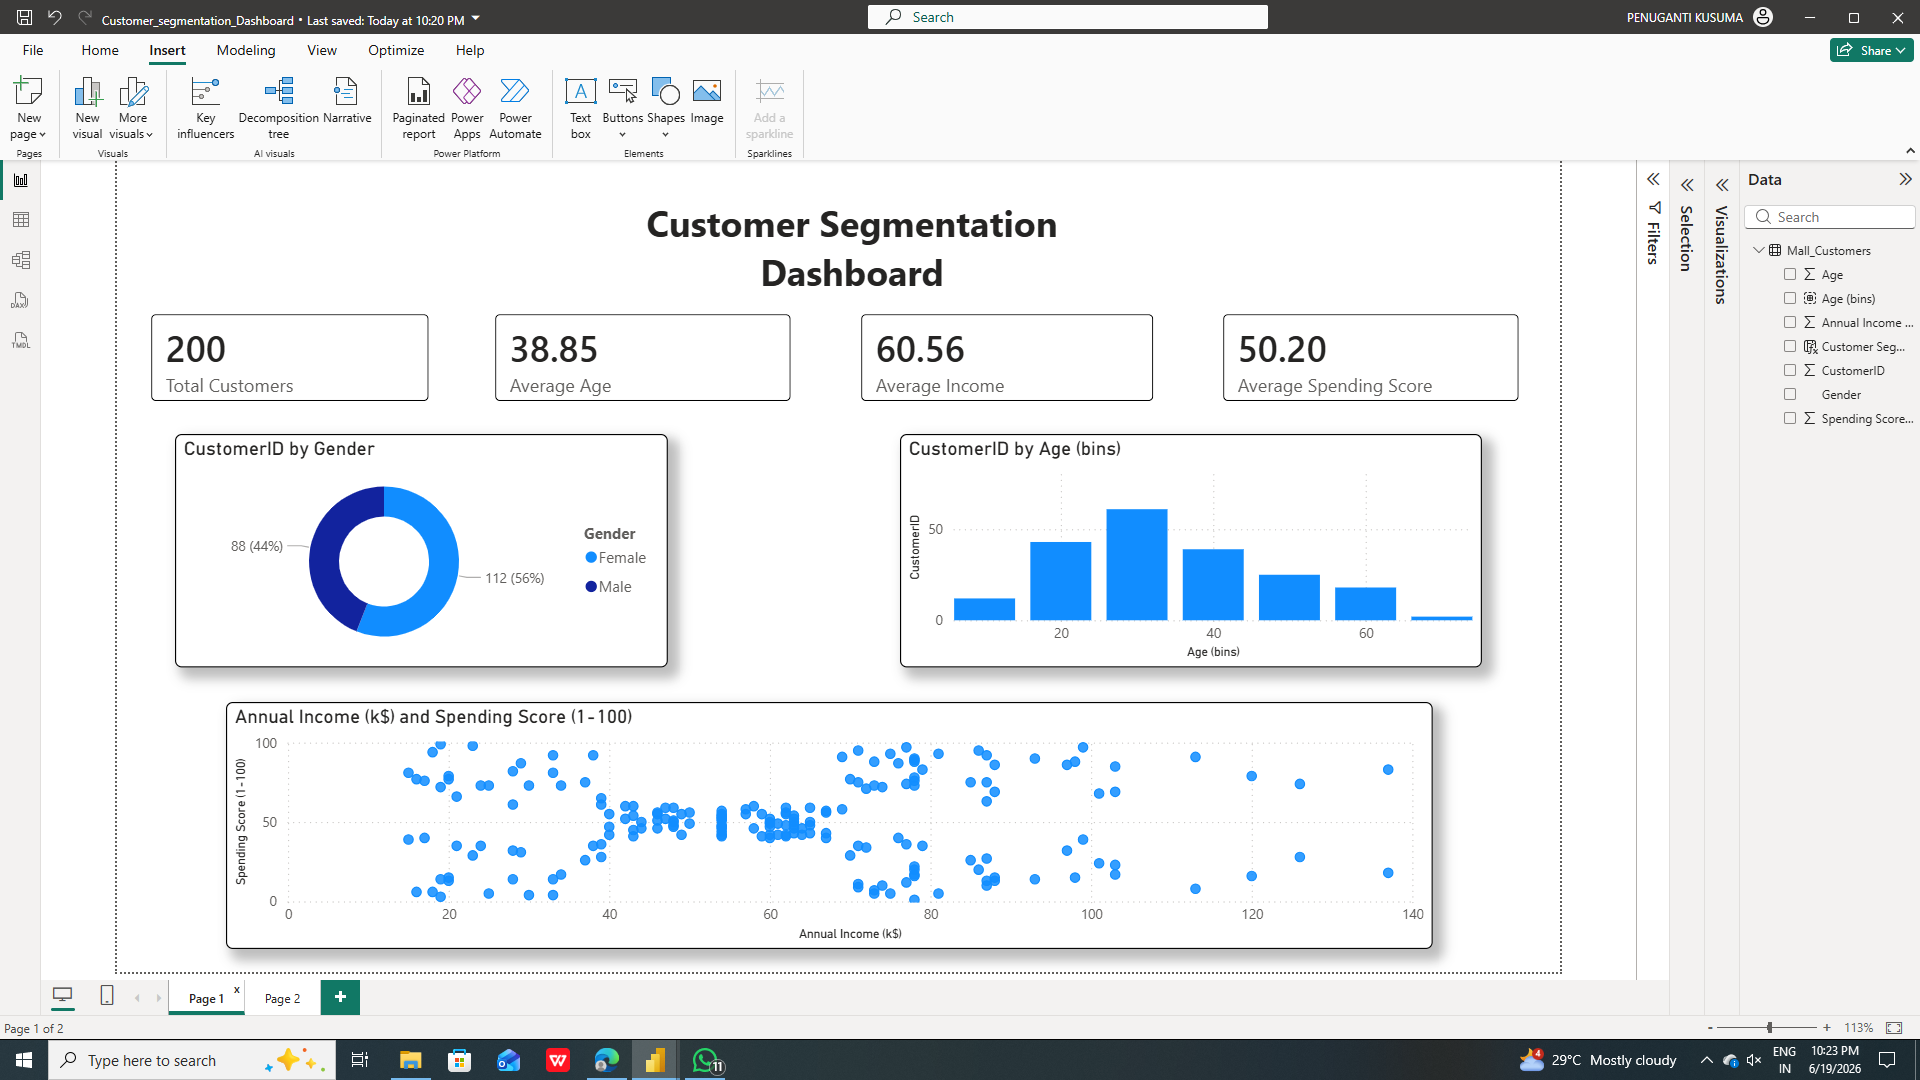

The page's visual inventory and layout, read from the dashboard file:
{"tool":"powerbi","page":{"name":"Page 1","canvas":[1280,720],"ordinal":0},"visuals":[{"type":"cardVisual","fields":{"Data":["CountNonNull(Mall_Customers.CustomerID)"]},"box":[13.6,119.6,280.1,111.9],"z":0},{"type":"cardVisual","fields":{"Data":["Avg(Mall_Customers.Age)"]},"box":[318.8,119.9,296.8,111.9],"z":1000},{"type":"cardVisual","fields":{"Data":["Avg(Mall_Customers.Annual Income (k$))"]},"box":[642.5,119.9,293.8,111.9],"z":2000},{"type":"cardVisual","fields":{"Data":["Avg(Mall_Customers.Spending Score (1-100))"]},"box":[964.2,119.9,296.8,111.9],"z":3000},{"type":"donutChart","fields":{"Category":["Mall_Customers.Gender"],"Y":["CountNonNull(Mall_Customers.CustomerID)"]},"box":[51.6,243.2,436.7,207.2],"z":3001},{"type":"clusteredColumnChart","fields":{"Y":["CountNonNull(Mall_Customers.CustomerID)"],"Category":["Mall_Customers.Age (bins)"]},"box":[694.5,243.2,515.5,207.2],"z":3002},{"type":"scatterChart","fields":{"X":["Mall_Customers.Annual Income (k$)"],"Y":["Mall_Customers.Spending Score (1-100)"]},"box":[96.3,480.5,1069.9,218.8],"z":3003},{"type":"textbox","box":[411.7,28,480.6,98.9],"z":3004}]}

Visuals, with their boxes on the page's 1280x720 design canvas (x1, y1, x2, y2). These are canvas units, not pixel positions in the 1920x1080 screenshot, which may show the page scaled, cropped or inside an application window:
cardVisual - CountNonNull(Mall_Customers.CustomerID): [x1=14, y1=120, x2=294, y2=232]
cardVisual - Avg(Mall_Customers.Age): [x1=319, y1=120, x2=616, y2=232]
cardVisual - Avg(Mall_Customers.Annual Income (k$)): [x1=642, y1=120, x2=936, y2=232]
cardVisual - Avg(Mall_Customers.Spending Score (1-100)): [x1=964, y1=120, x2=1261, y2=232]
donutChart - Mall_Customers.Gender x CountNonNull(Mall_Customers.CustomerID): [x1=52, y1=243, x2=488, y2=450]
clusteredColumnChart - CountNonNull(Mall_Customers.CustomerID) x Mall_Customers.Age (bins): [x1=694, y1=243, x2=1210, y2=450]
scatterChart - Mall_Customers.Annual Income (k$) x Mall_Customers.Spending Score (1-100): [x1=96, y1=480, x2=1166, y2=699]
textbox: [x1=412, y1=28, x2=892, y2=127]
